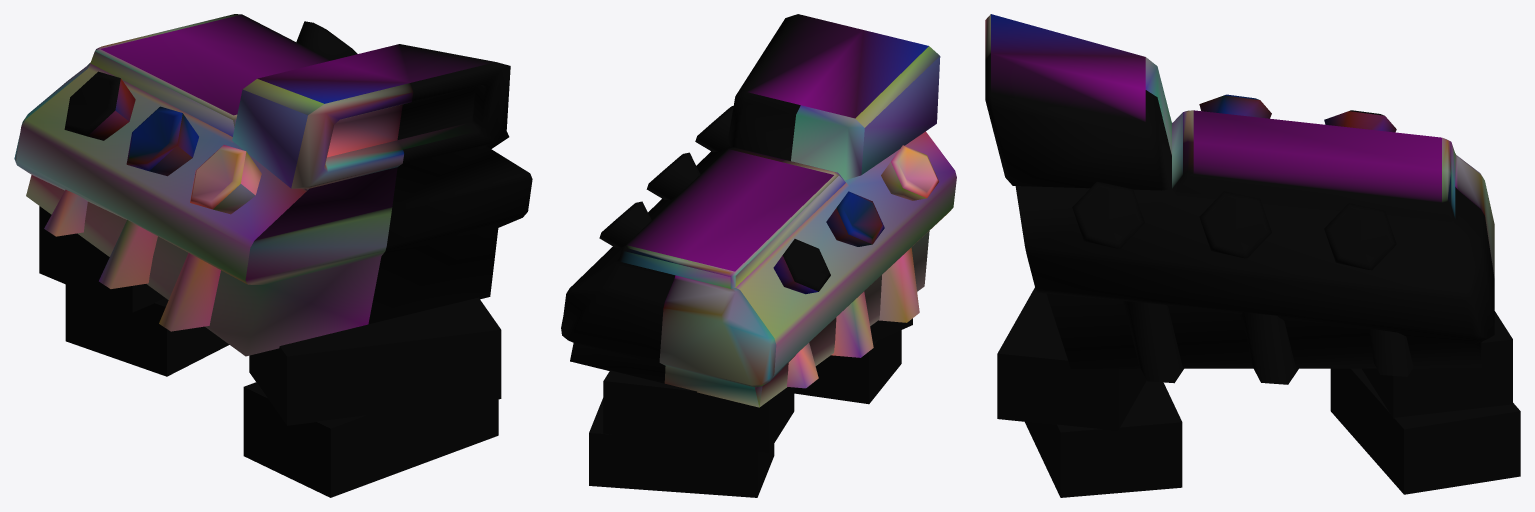
The model's file is OldOctane_Engine.gltf.
The picture shows the model from 3 angles, left to right: view 1: azimuth 30°, elevation 25°; view 2: azimuth 150°, elevation 25°; view 3: azimuth 270°, elevation 25°; orthographic projection. The views are drawn at different scales.
Visible parts, largest first — view 1: OldOctane_Engine; view 2: OldOctane_Engine; view 3: OldOctane_Engine.
Boxes of the visible parts, bbox=[...] form: OldOctane_Engine: bbox=[14, 14, 532, 497]; OldOctane_Engine: bbox=[561, 14, 956, 497]; OldOctane_Engine: bbox=[985, 14, 1520, 497].
Bounding box in the file's own units: 2.34 × 2.93 × 3.67.
